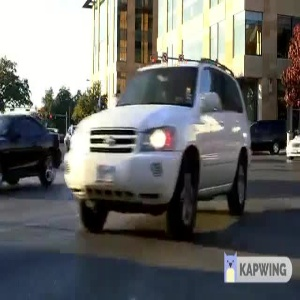suv: (63, 57, 263, 241)
